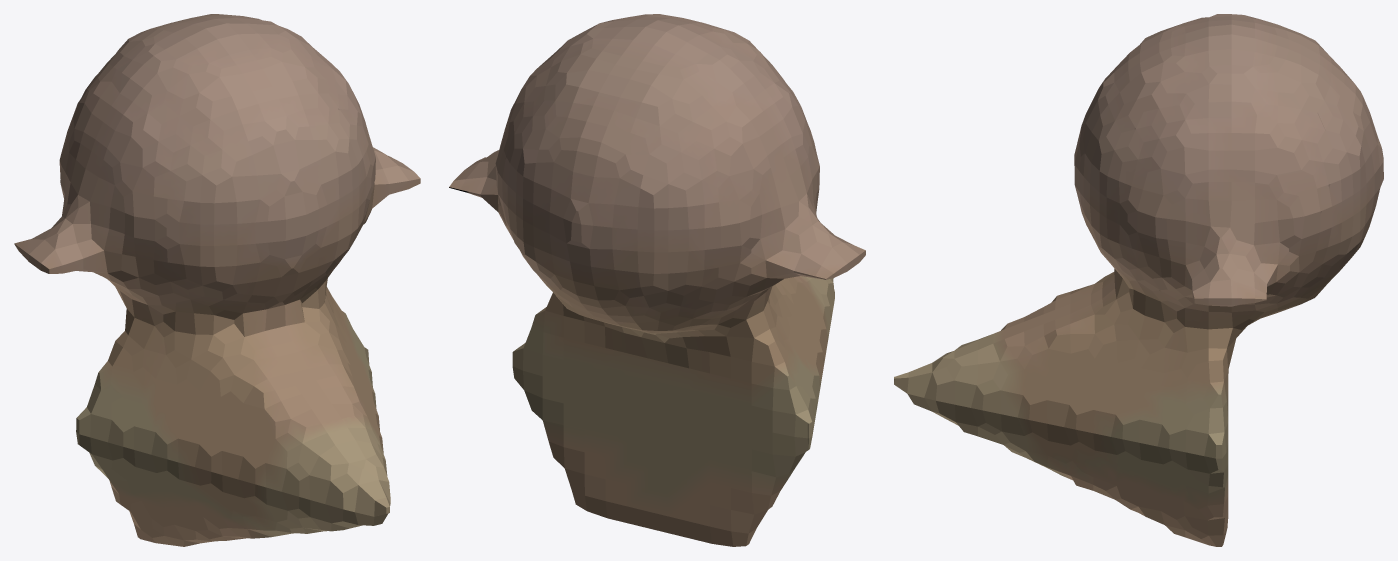
The model's file is blackShadow.glb.
3 views of the same model, side by side, from view 1: azimuth 30°, elevation 25°; view 2: azimuth 150°, elevation 25°; view 3: azimuth 270°, elevation 25° (orthographic). The views are drawn at different scales.
Parts seen in each view (by area): view 1: geometry_0; view 2: geometry_0; view 3: geometry_0.
Boxes of the visible parts, x1,y1,x2,y2 form: geometry_0: (14, 14, 420, 546); geometry_0: (449, 14, 865, 546); geometry_0: (894, 14, 1383, 546).
Size of the model in its own units: 0.7641 by 0.9702 by 0.8844.
Materials: 1 (1 with a texture image).
